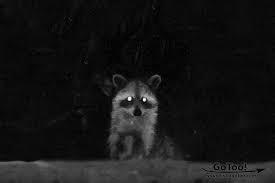raccoon: (81, 63, 188, 170)
